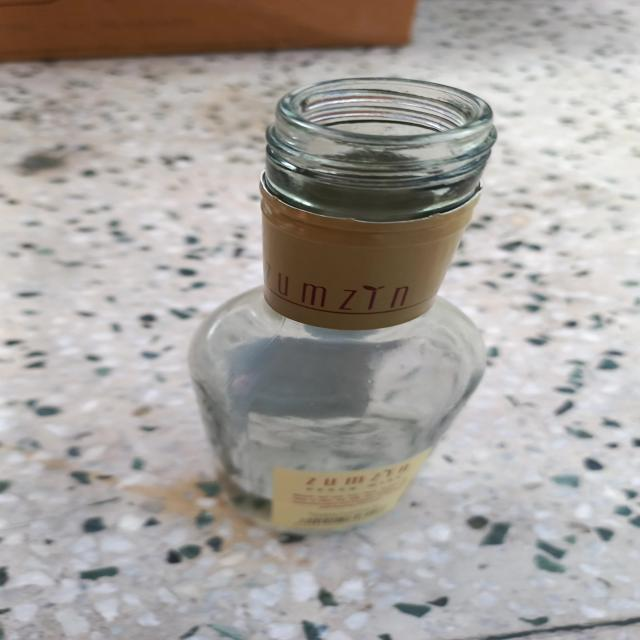Glass: (188, 76, 497, 536)
